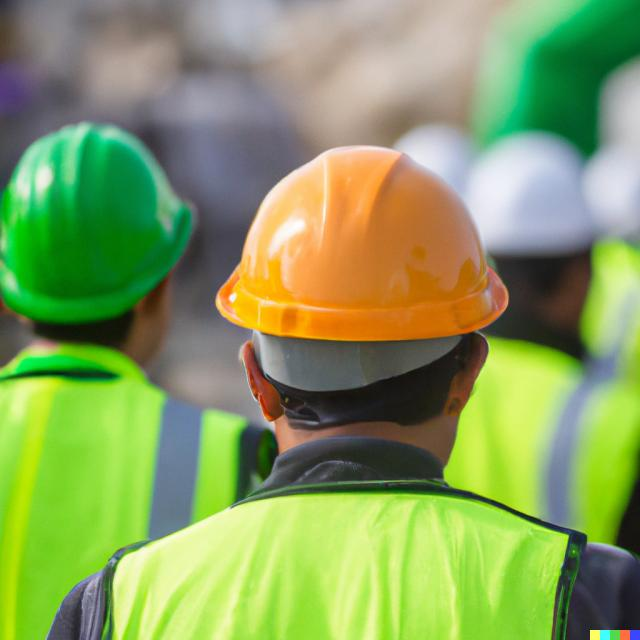Reflective-Jacket: (93, 479, 619, 636), (1, 351, 234, 638)
Safety-Helmet: (214, 148, 512, 342), (0, 117, 199, 324)
